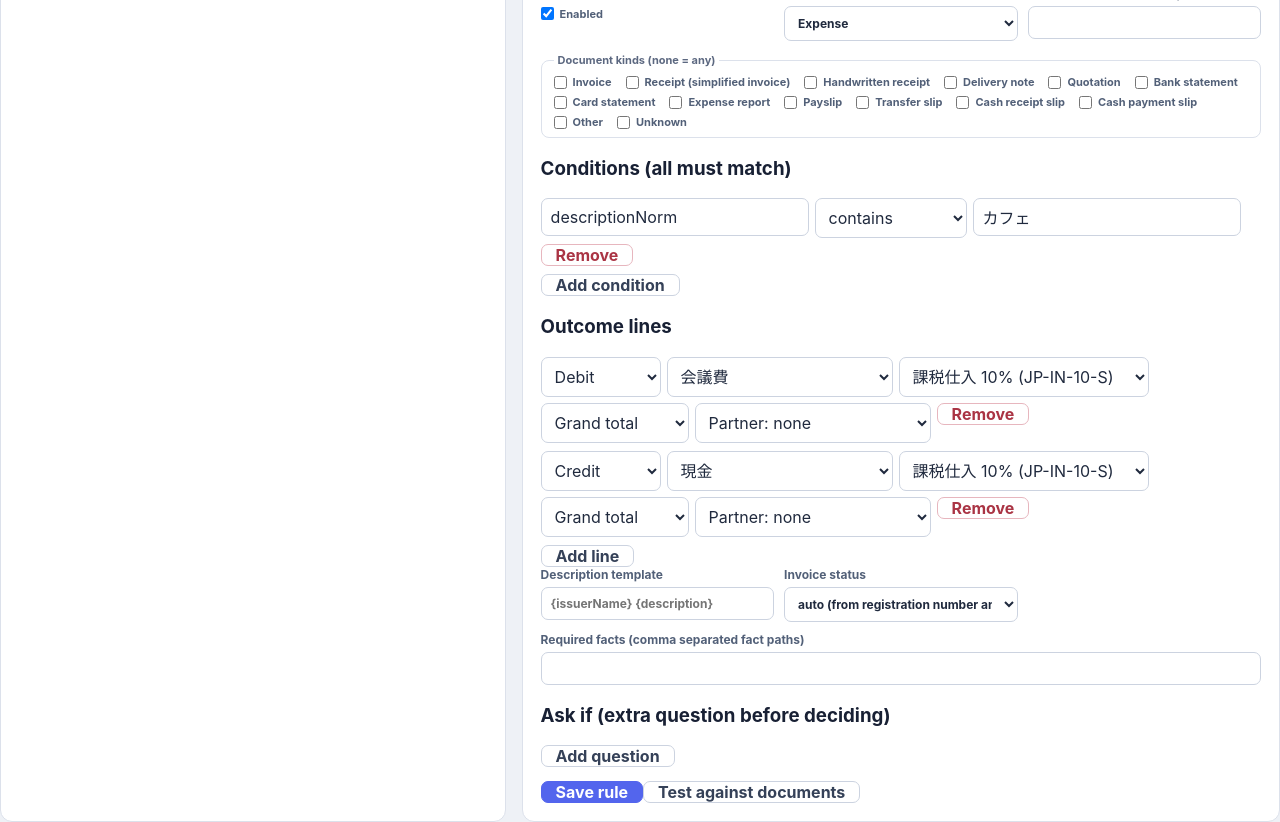
Test case: RulesTab › 正常: 「文書でテスト」は文書ごとに一致 / 不一致と仕訳・理由を出す
The image size is (1280, 822).
(page scrolled)
Click the button "Test against documents": (752, 792) [643,781,860,803]
(page scrolled)
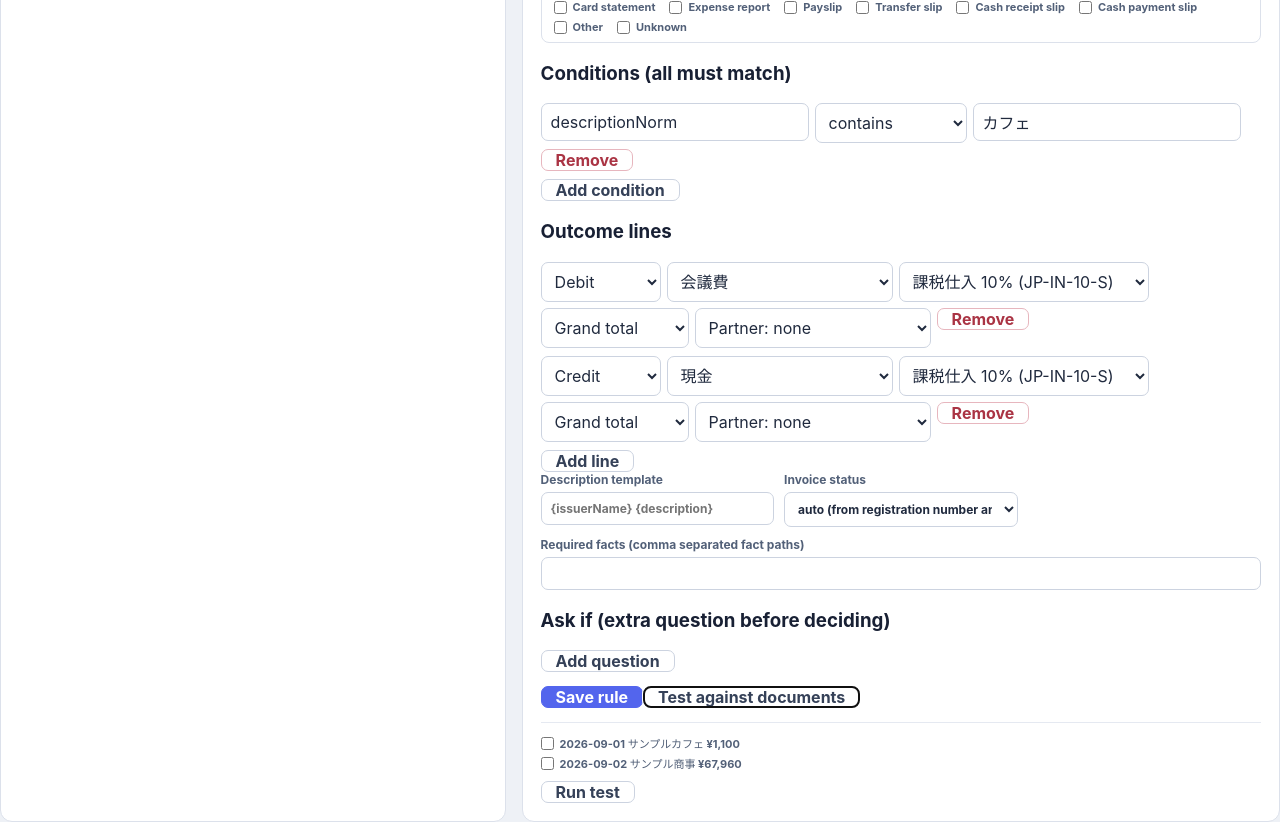
Click the checkbox labelled "2026-09-01 サンプルカフェ ¥1,100": (547, 743) [541,737,554,750]
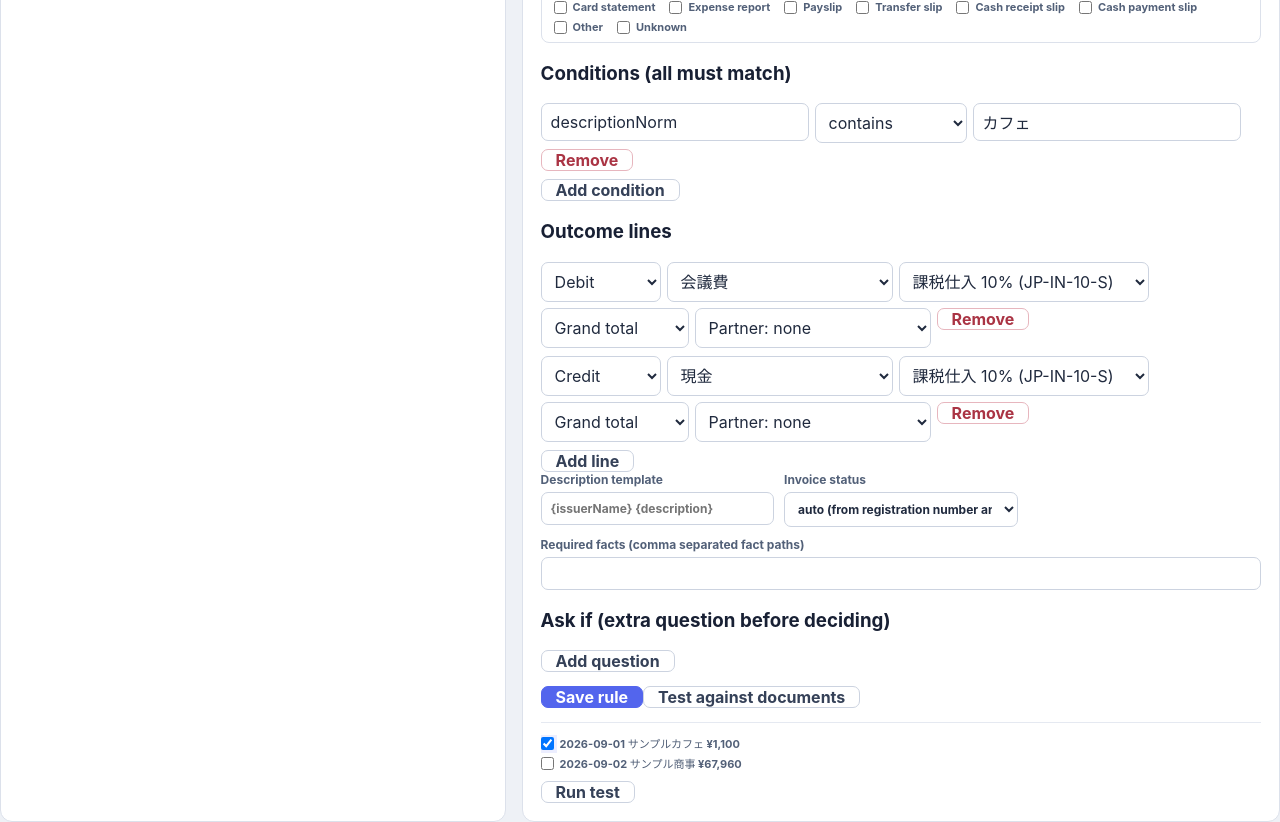
Click the checkbox labelled "2026-09-02 サンプル商事 ¥67,960": (547, 763) [541,757,554,770]
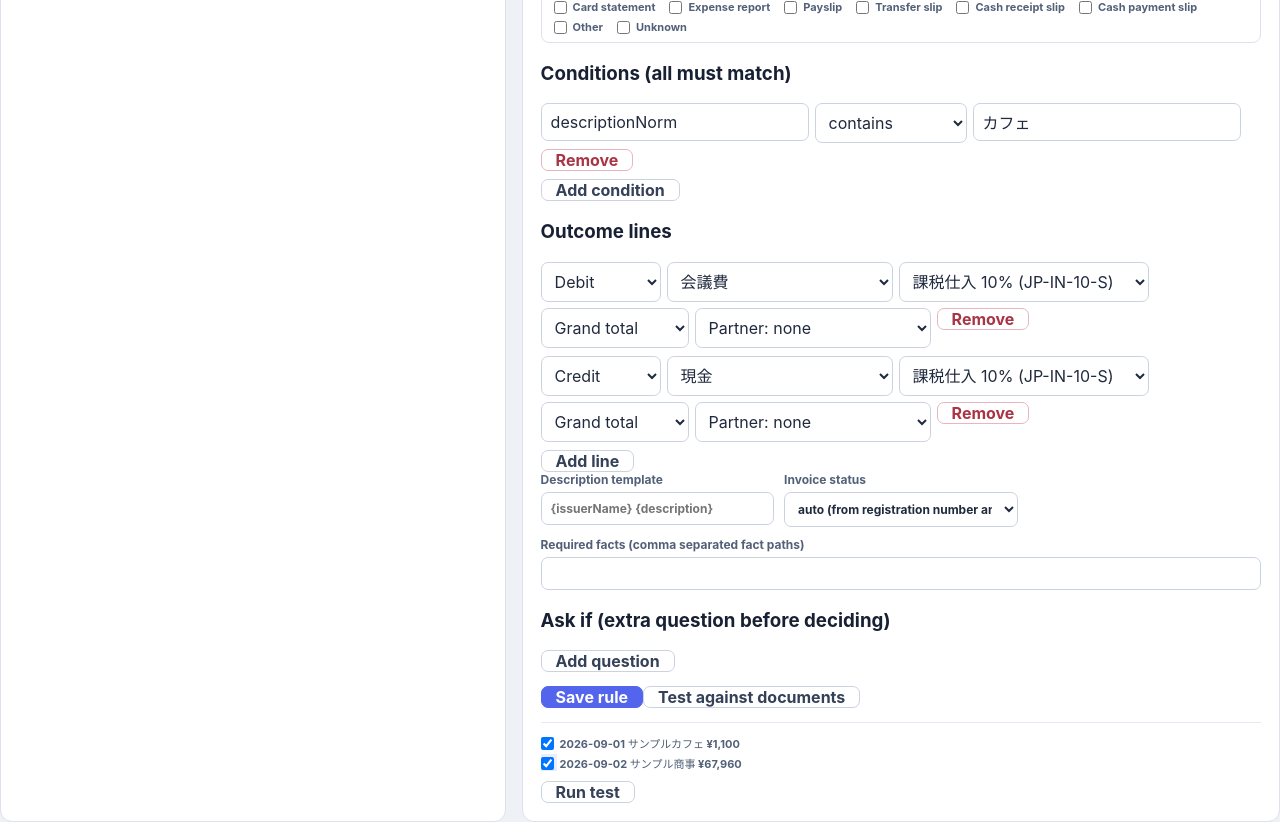
Click the button "Run test": (588, 792) [541,781,635,803]
(page scrolled)
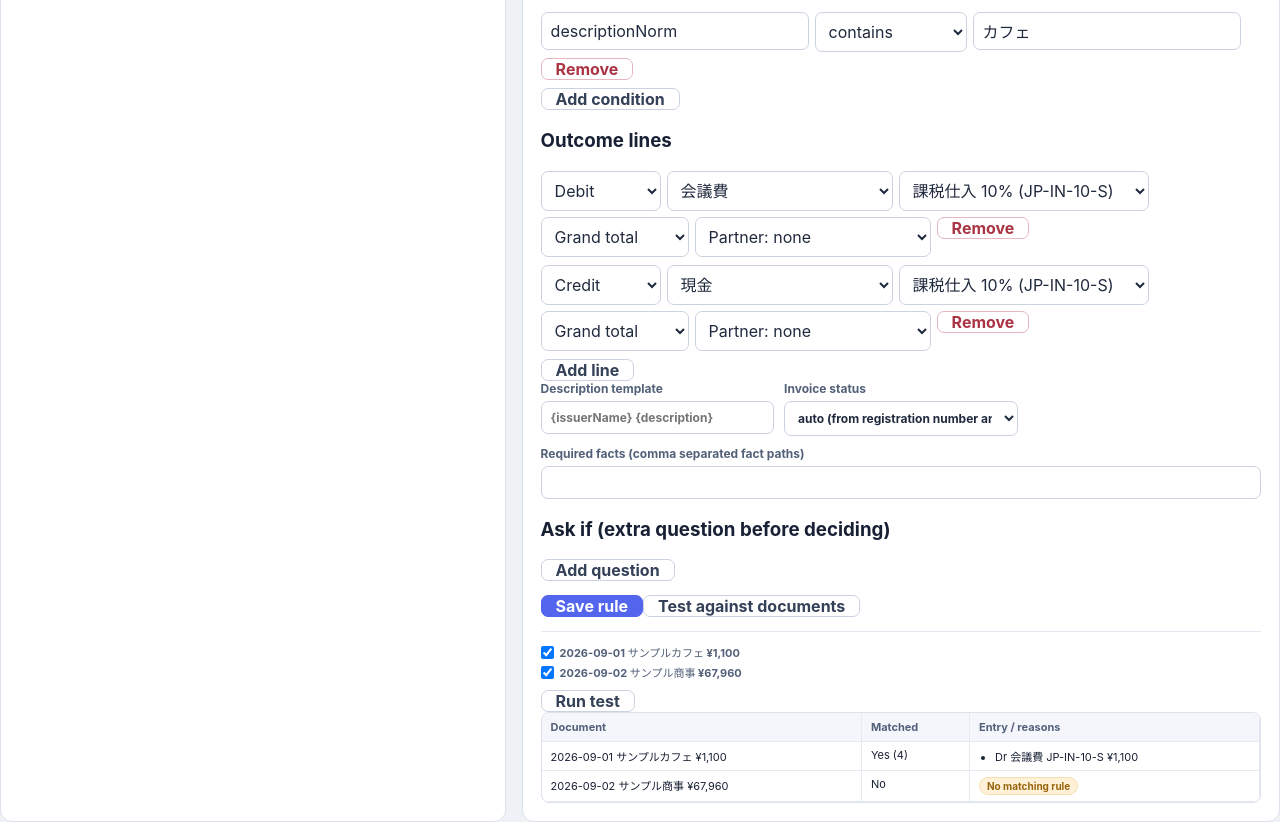
Now the text "Yes (4)" is shown, box [861,742,969,771]
Now the text "No" is shown, box [861,771,969,802]
Now the list item "Dr 会議費 JP-IN-10-S ¥1,100" is shown, box [995,750,1138,764]
